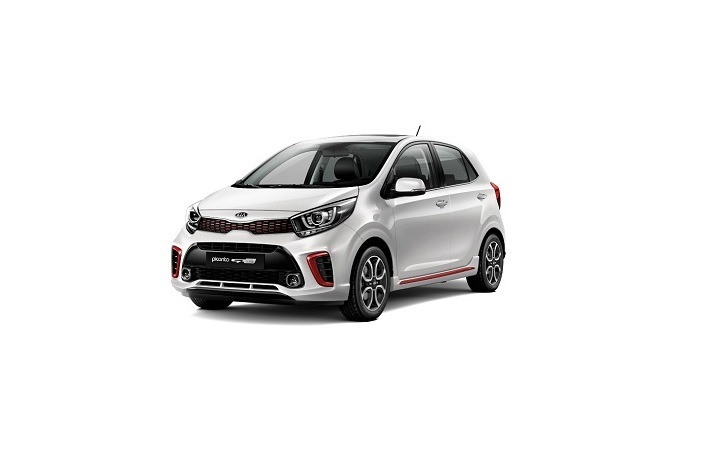car: (172, 132, 516, 313)
